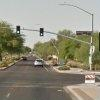Traffic light: (11, 21, 47, 44)
